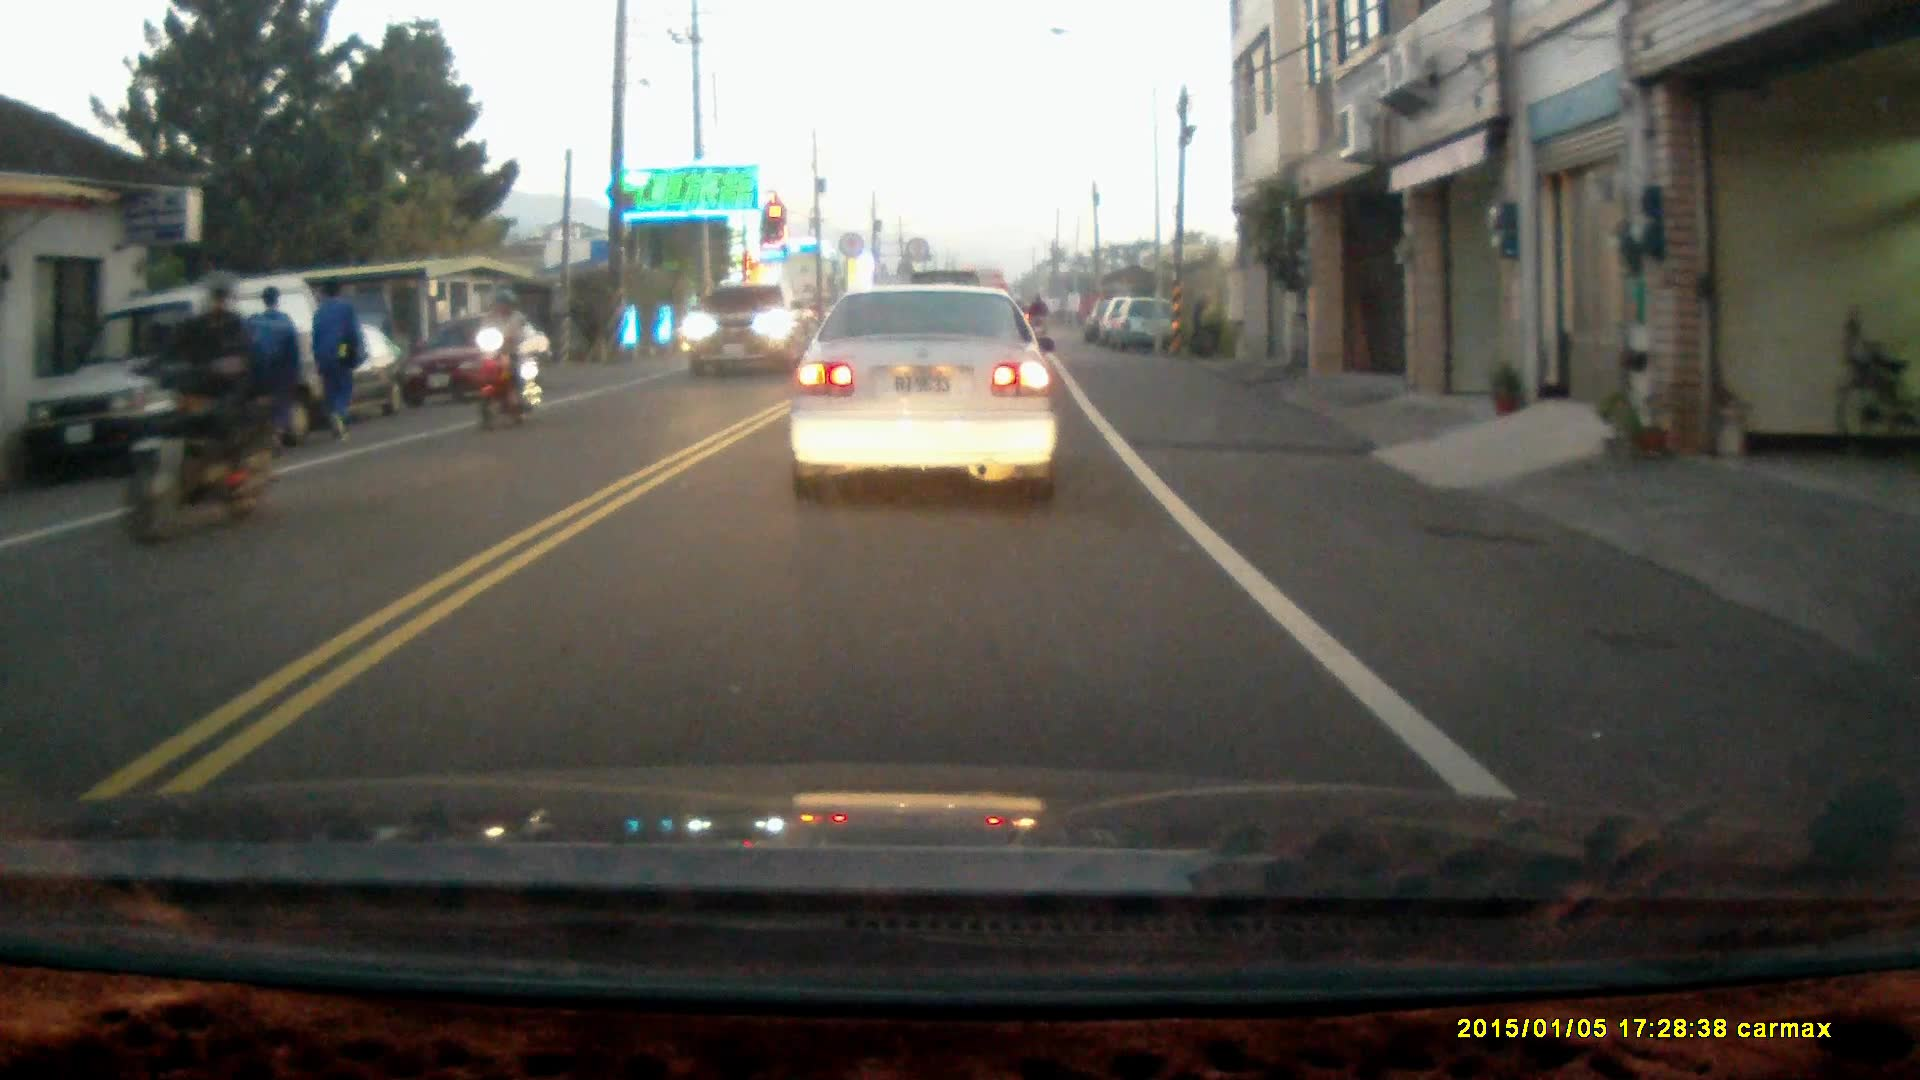pedestrian: (242, 285, 304, 465), (310, 276, 365, 447)
rider: (121, 267, 302, 548), (468, 291, 542, 432)
vehicle: (789, 279, 1063, 506), (22, 275, 320, 477), (211, 312, 415, 423), (403, 313, 563, 420), (680, 275, 803, 377), (1109, 299, 1183, 356)
